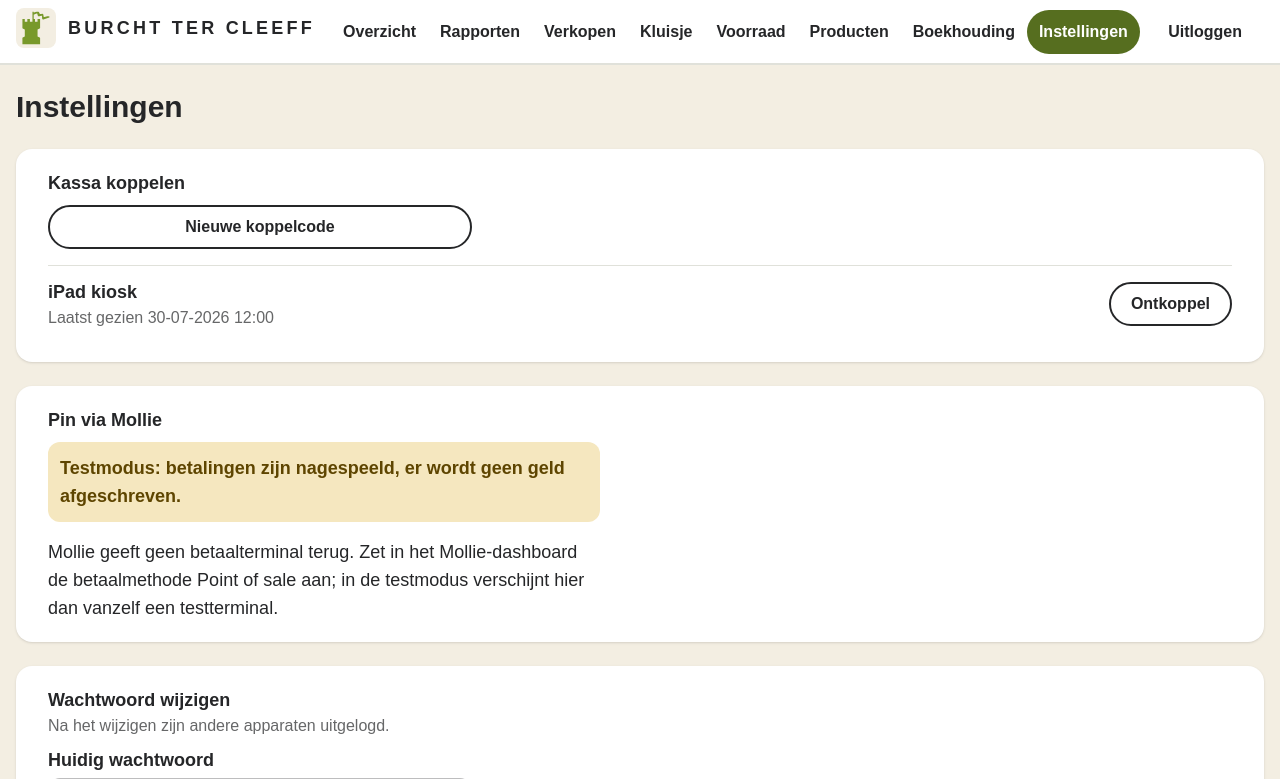
Test: leaves the kassa paired when the question is answered with no
Expected: the text "iPad kiosk" is shown, [48,278,137,306]
What coordinates should you click on to do the following:
click the button "Ontkoppel"
I would click on:
 (1170, 304)
Its box is [1109,282,1232,326].
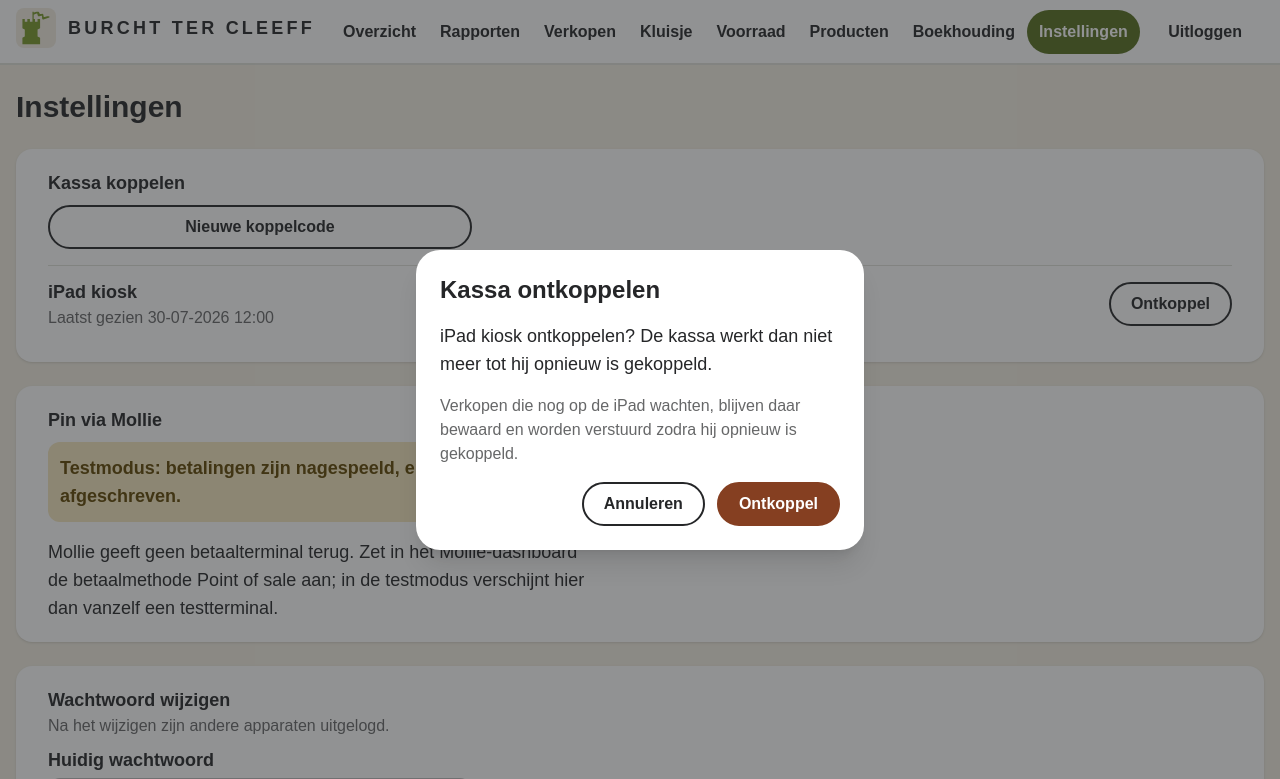
What coordinates should you click on to do the following:
click the button "Annuleren"
I would click on:
 (643, 504)
Its box is [582,482,705,526].
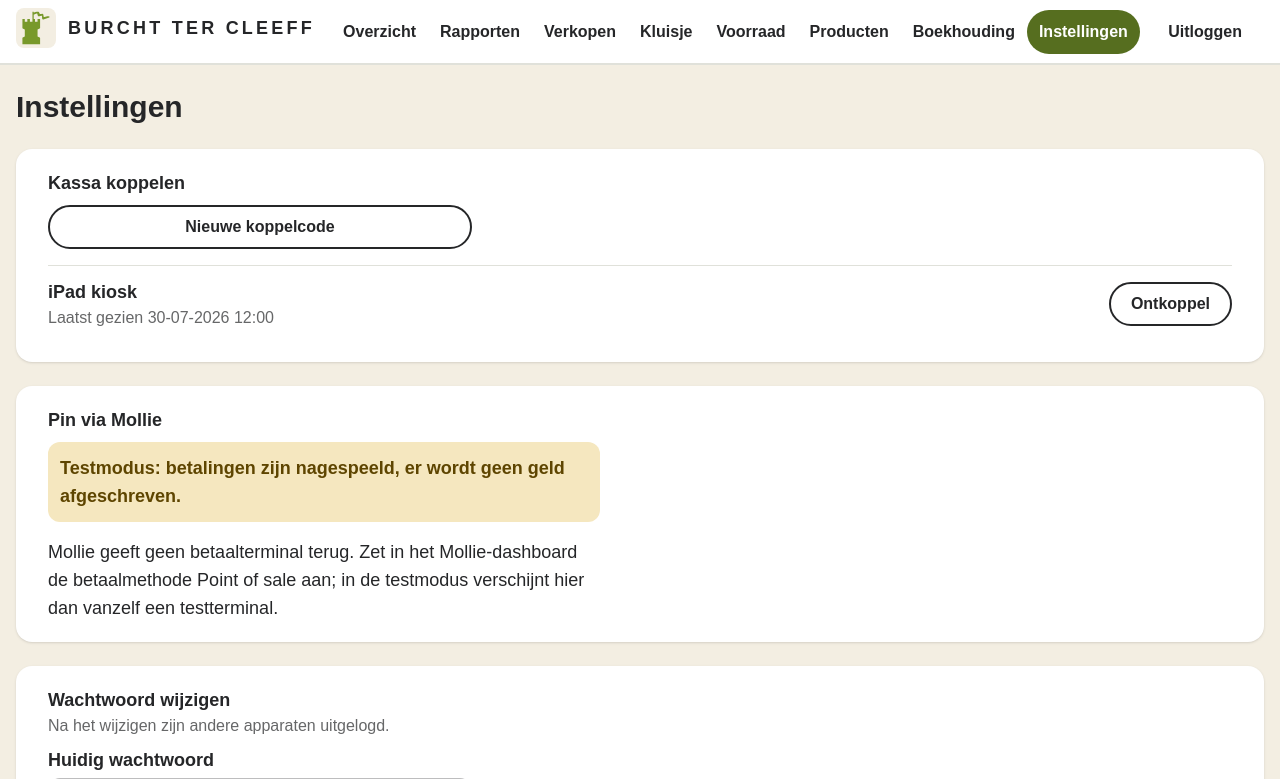
Now the dialog is gone
